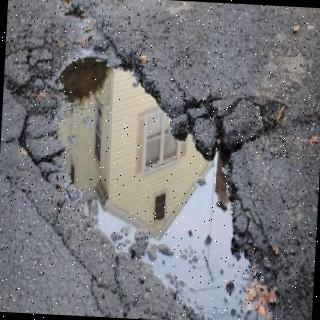pothole: (4, 43, 314, 320)
